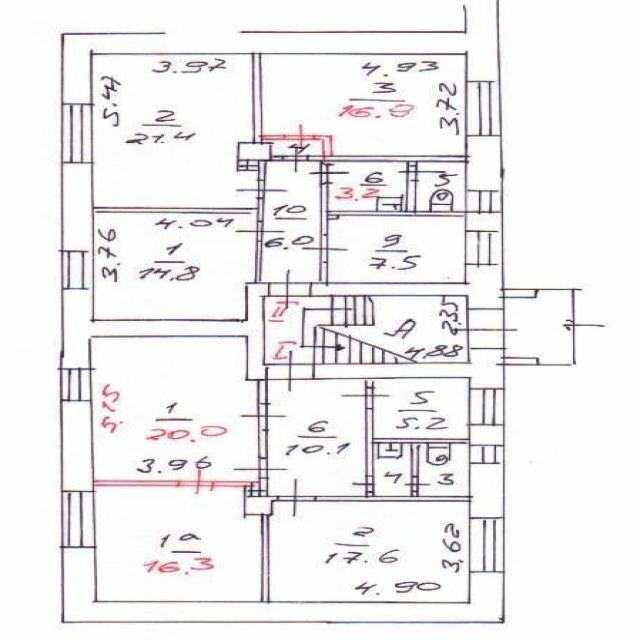Bathrooms: (331, 163, 406, 211), (420, 444, 469, 495), (419, 164, 466, 211), (375, 444, 412, 495)
Corridors: (268, 381, 365, 495), (265, 161, 318, 281), (505, 290, 573, 365), (273, 141, 321, 154)
Doors: (448, 309, 523, 348), (268, 348, 316, 394), (268, 268, 312, 311), (278, 477, 317, 517), (299, 235, 349, 263), (236, 403, 287, 430), (232, 458, 290, 478), (232, 221, 285, 242), (339, 388, 392, 408), (233, 181, 289, 199), (179, 468, 214, 496), (307, 164, 352, 184), (395, 166, 447, 182), (284, 123, 314, 150), (283, 145, 310, 174), (404, 476, 432, 492), (351, 476, 376, 492)
LBwalls: (60, 0, 500, 103), (61, 549, 506, 624), (91, 283, 268, 381), (60, 401, 95, 491), (60, 164, 95, 251), (58, 291, 96, 368), (315, 364, 470, 378), (465, 136, 503, 191), (312, 282, 466, 295), (469, 464, 505, 518), (465, 266, 505, 309), (467, 347, 505, 387), (465, 212, 504, 231), (468, 425, 505, 444), (236, 142, 272, 161), (244, 497, 273, 517)
Offices: (94, 55, 258, 207), (92, 337, 257, 480), (264, 55, 465, 155), (270, 502, 469, 601), (94, 488, 259, 600), (94, 213, 257, 320), (330, 216, 464, 282), (375, 379, 467, 437)
Stairs: (265, 297, 465, 363)
Walls: (320, 181, 466, 234), (365, 409, 468, 477), (307, 134, 465, 166), (93, 198, 265, 221), (317, 491, 469, 502), (251, 53, 262, 142), (262, 515, 270, 602), (95, 480, 179, 487), (236, 161, 266, 180), (214, 478, 269, 486), (503, 357, 539, 366), (503, 288, 538, 297), (243, 486, 269, 497), (259, 430, 268, 457), (258, 381, 268, 403), (256, 242, 261, 283), (319, 262, 328, 282), (262, 134, 285, 141), (364, 378, 374, 388), (272, 155, 284, 161), (272, 495, 277, 502)
Windows: (468, 516, 507, 573), (60, 490, 96, 548), (60, 103, 93, 164), (465, 82, 501, 137), (60, 250, 95, 291), (464, 231, 504, 266), (469, 388, 505, 425), (58, 367, 93, 401), (466, 189, 503, 214), (468, 444, 504, 464)
